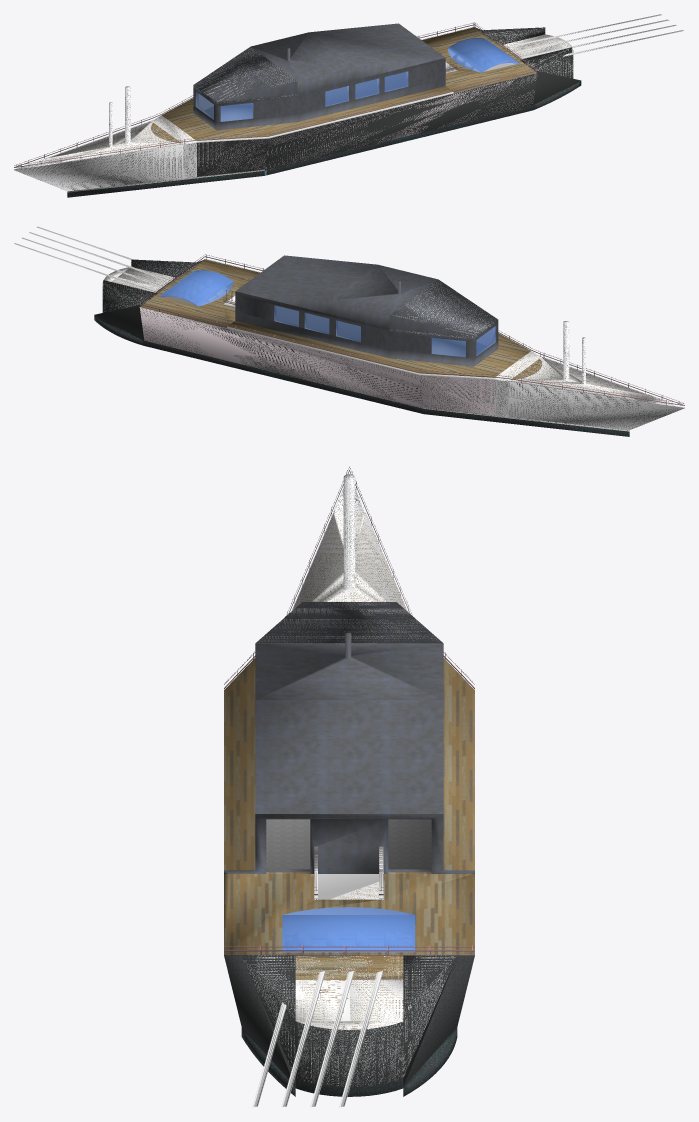
Rendered from ship2.dae.
The picture shows the model from 3 angles, top to bottom: view 1: azimuth 30°, elevation 25°; view 2: azimuth 150°, elevation 25°; view 3: azimuth 270°, elevation 25°; orthographic projection. The views are drawn at different scales.
Parts seen in each view (by area): view 1: group_1 (×22), SketchUp; view 2: group_1 (×20), SketchUp; view 3: group_1 (×11), SketchUp.
Boxes of the visible parts, box(x1,y1,x2,y2) form: group_1 (×22): box(14, 14, 676, 197); SketchUp: box(14, 22, 537, 167); group_1 (×20): box(21, 231, 684, 436); SketchUp: box(139, 254, 684, 405); group_1 (×11): box(224, 474, 474, 1096); SketchUp: box(224, 466, 474, 955).
Size of what is drawn, in the model's own units: 1270 by 213 by 179.
